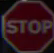Stop: (1, 5, 52, 42)
